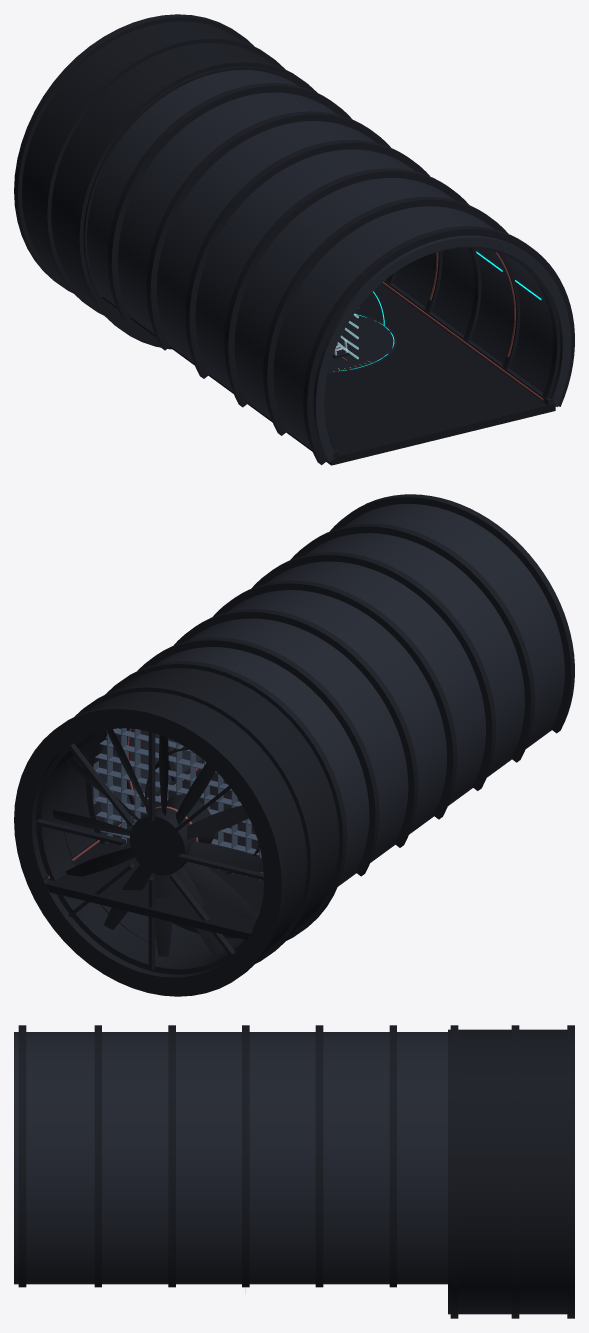
File: wind_tunnel_room.glb
3 views of the same model, one above another, from view 1: azimuth 30°, elevation 25°; view 2: azimuth 150°, elevation 25°; view 3: azimuth 270°, elevation 25° (orthographic). The views are drawn at different scales.
Visible parts, largest first — view 1: WindTunnel_Chamber; view 2: WindTunnel_Chamber, WindTunnel_Fan_Rotor, WindTunnel_Flow_Straightener; view 3: WindTunnel_Chamber.
Part boxes in pixels (left/top/right/bottom): WindTunnel_Chamber: left=14, top=14, right=574, bottom=465; WindTunnel_Chamber: left=14, top=494, right=574, bottom=996; WindTunnel_Fan_Rotor: left=53, top=729, right=263, bottom=956; WindTunnel_Flow_Straightener: left=86, top=728, right=263, bottom=938; WindTunnel_Chamber: left=14, top=1025, right=574, bottom=1318.
Bounding box in the file's own units: 6.96 × 6.96 × 13.31.
